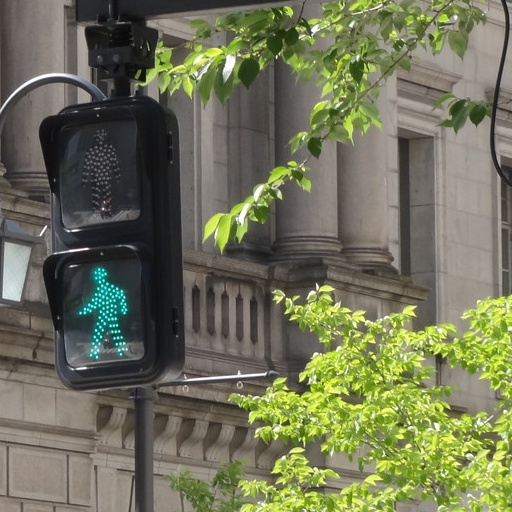Pedestrian_Signal_Blue: (40, 100, 185, 381)
